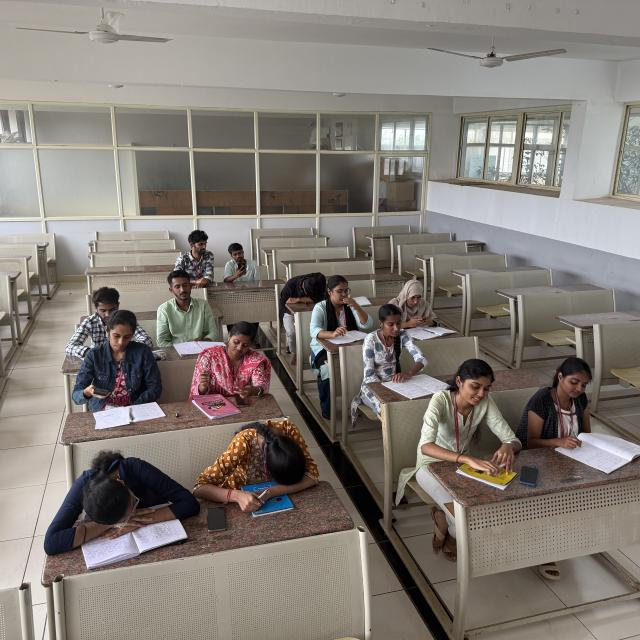Reading: (358, 300, 436, 397), (64, 286, 156, 362), (156, 269, 227, 351), (314, 273, 370, 341)
Sleeping: (40, 444, 202, 549), (186, 415, 338, 510), (274, 270, 330, 330)
Using Phone: (68, 307, 160, 407), (387, 278, 440, 327), (222, 239, 261, 287)
